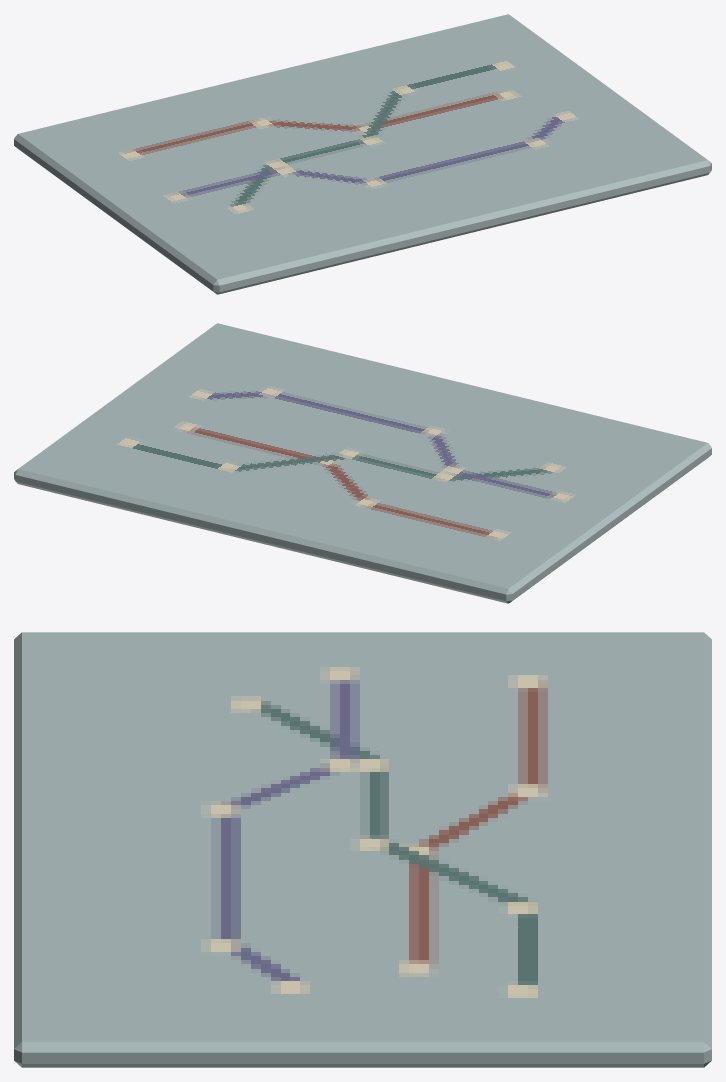
File: subwaymap.glb
3 views of the same model, one above another, from view 1: azimuth 30°, elevation 25°; view 2: azimuth 150°, elevation 25°; view 3: azimuth 270°, elevation 25° (orthographic). The views are drawn at different scales.
Visible parts, largest first — view 1: block_schematic routes, block_folded route chart; view 2: block_schematic routes, block_folded route chart; view 3: block_schematic routes, block_folded route chart.
Part boxes in pixels (<box>): block_schematic routes: <box>45,23,678,267</box>; block_folded route chart: <box>14,14,711,294</box>; block_schematic routes: <box>46,333,679,576</box>; block_folded route chart: <box>14,323,711,603</box>; block_schematic routes: <box>52,646,676,1022</box>; block_folded route chart: <box>14,632,711,1067</box>.
Size of the model in its own units: 0.2495 by 0.0078 by 0.1767.
Materials: 1 (1 with a texture image).
